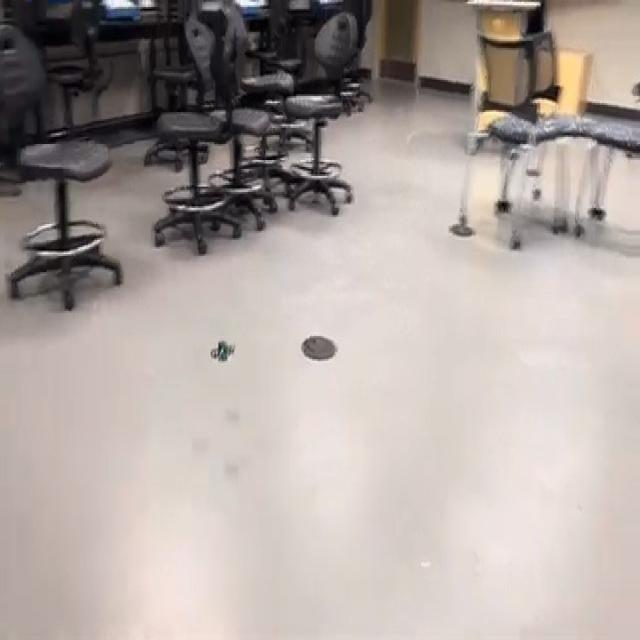drone: (202, 324, 244, 372)
